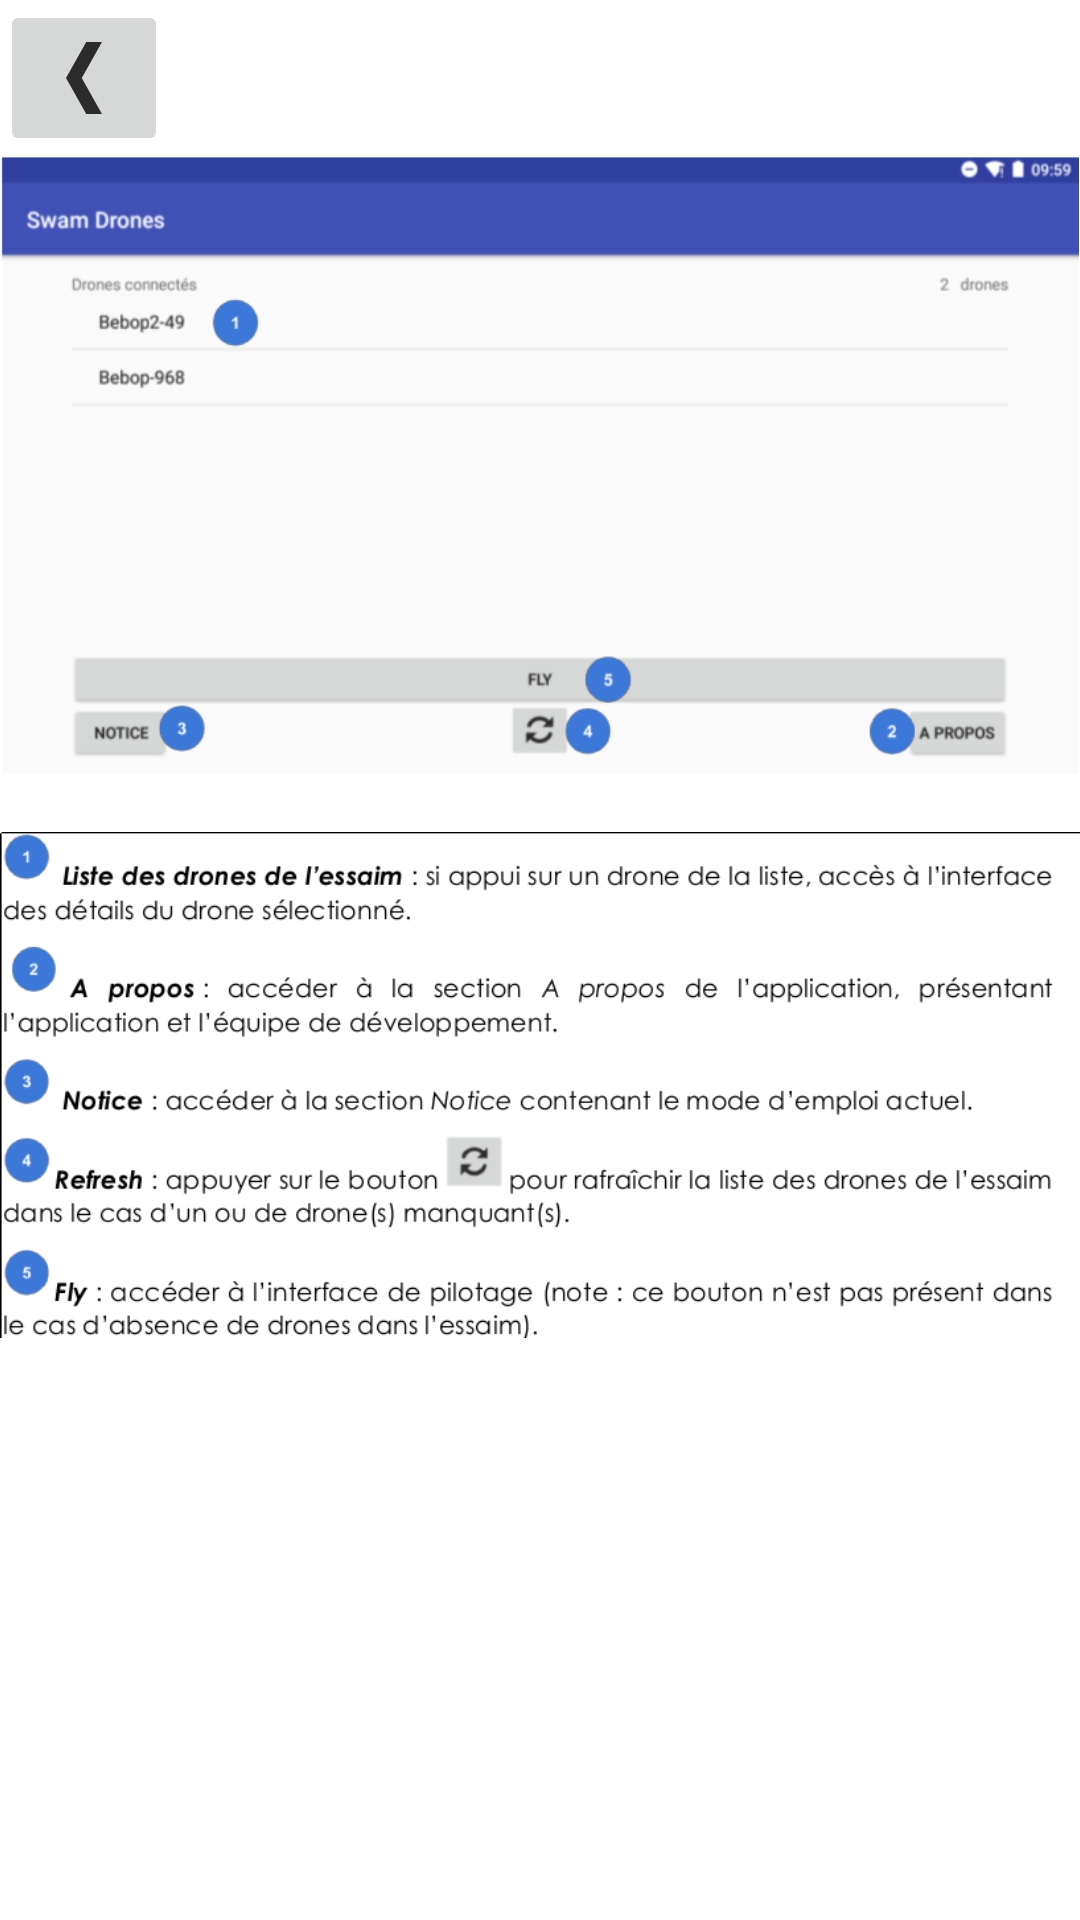

Named icons in this screenshot (1080w x 1920h) and their centers, point (x, y):
bouton retour: point (84, 78)
